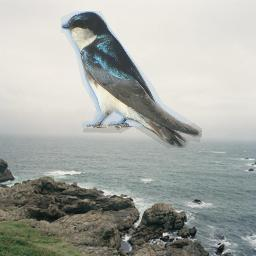Swallow: (61, 11, 202, 148)
